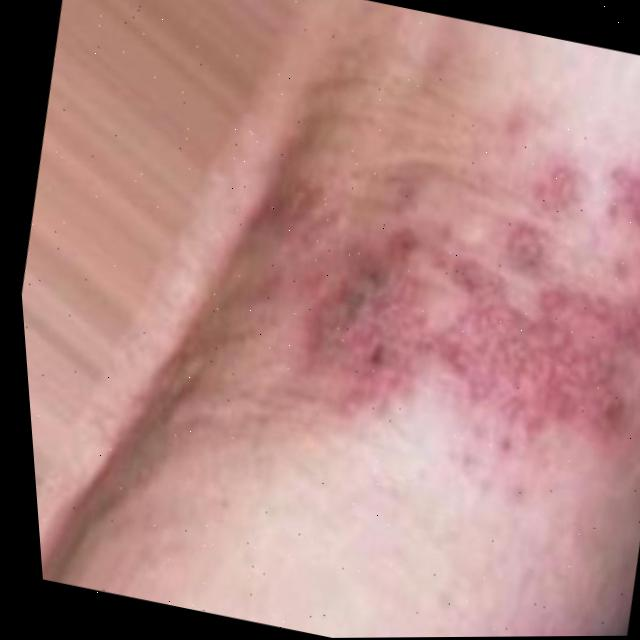Shingles: (250, 96, 640, 473)
